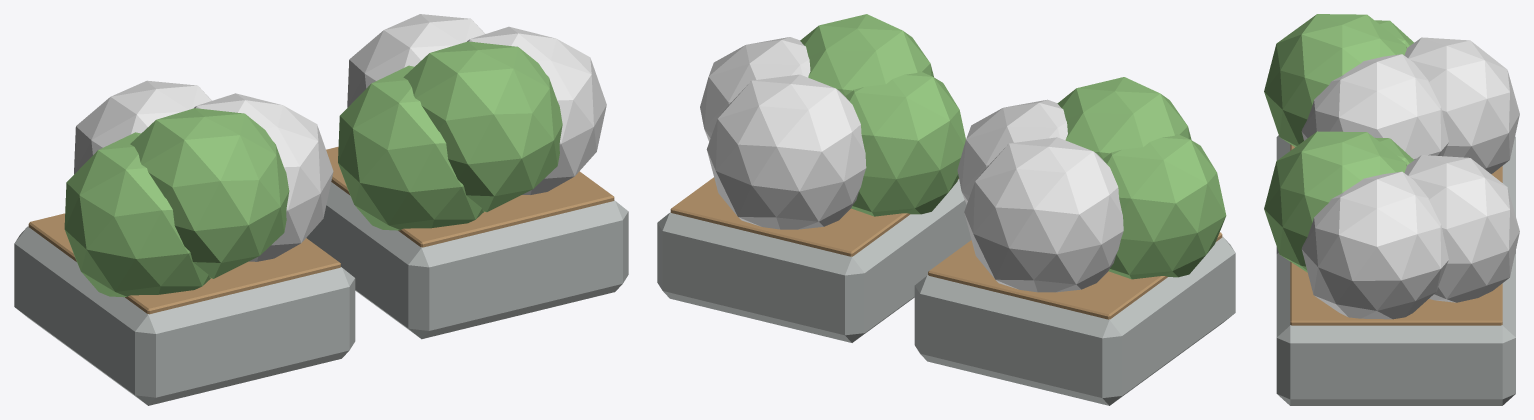
The model's file is Entrance_Shrubs.fbx.
3 renders of one model, left to right at view 1: azimuth 30°, elevation 25°; view 2: azimuth 150°, elevation 25°; view 3: azimuth 270°, elevation 25°, orthographic. The views are drawn at different scales.
Parts seen in each view (by area): view 1: Entrance_Shrubs__LPCXFER; view 2: Entrance_Shrubs__LPCXFER; view 3: Entrance_Shrubs__LPCXFER.
Boxes of the visible parts, x1,y1,x2,y2 form: Entrance_Shrubs__LPCXFER: (14, 14, 628, 405); Entrance_Shrubs__LPCXFER: (657, 14, 1235, 405); Entrance_Shrubs__LPCXFER: (1264, 14, 1519, 405).
Bounding box in the file's own units: 139 × 62.07 × 66.3.
